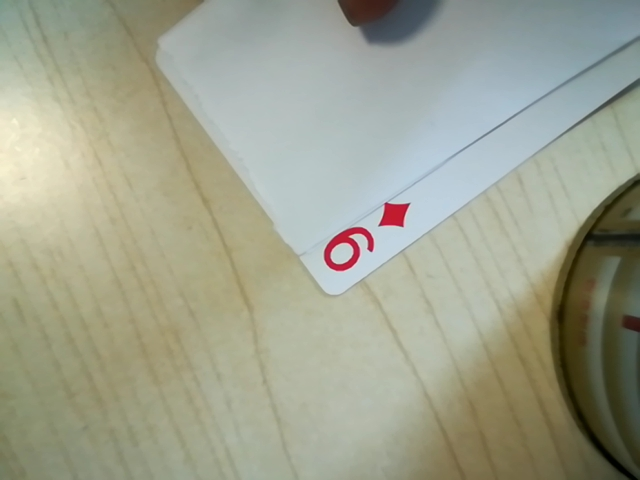fk 9: (310, 201, 411, 280)
